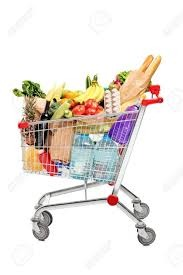with_basket: (18, 80, 158, 246)
